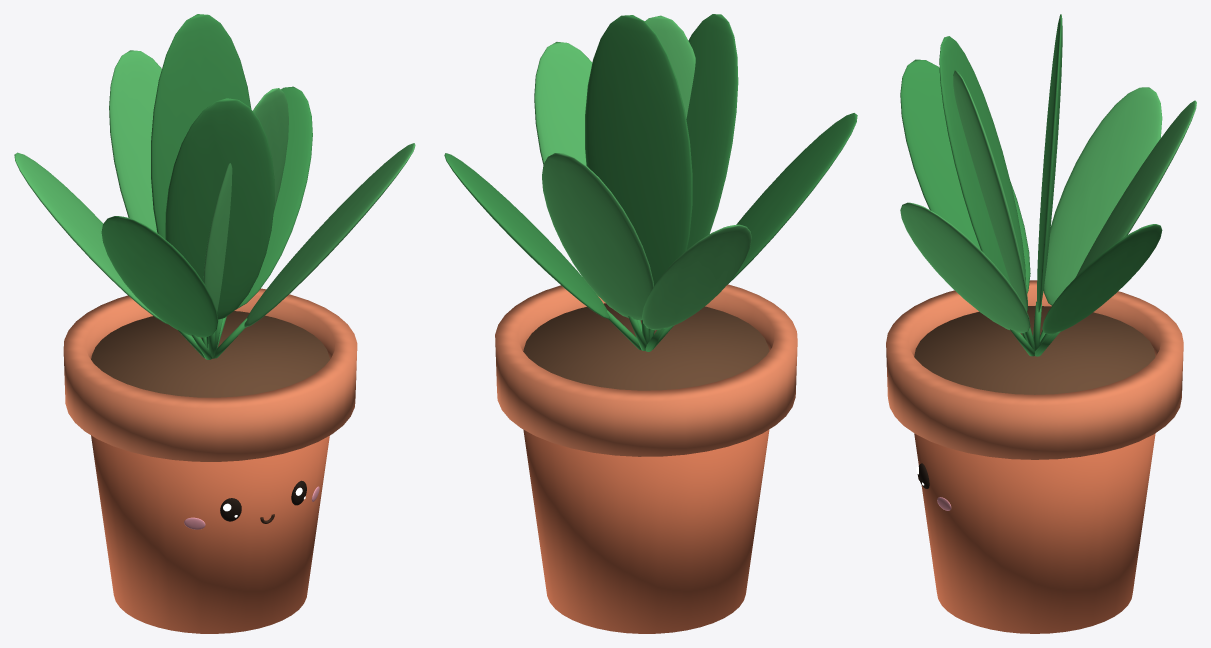
File: d-plant.glb
3 views of the same model, side by side, from view 1: azimuth 30°, elevation 25°; view 2: azimuth 150°, elevation 25°; view 3: azimuth 270°, elevation 25° (orthographic). The views are drawn at different scales.
Parts seen in each view (by area): view 1: d-plant; view 2: d-plant; view 3: d-plant.
Part boxes in pixels (x1,y1,x2,y2): d-plant: (14, 14, 415, 633); d-plant: (444, 14, 857, 633); d-plant: (886, 14, 1196, 633).
Bounding box in the file's own units: 0.1053 × 0.19 × 0.0929.
